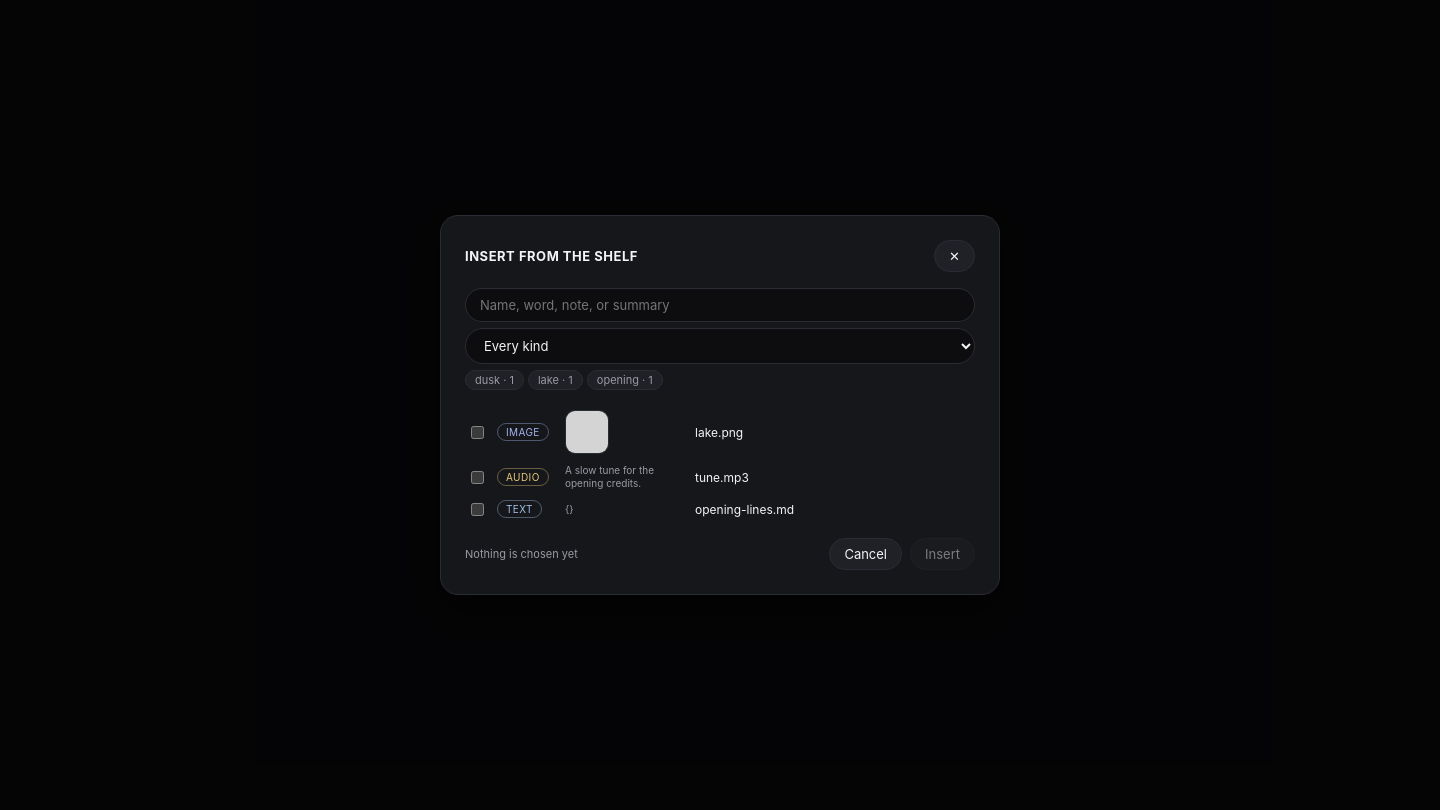
Test: the asset picker › reads a sound's row by the words it came from, whole on a hover
Hover over the text with test id "asset-pick-excerpt-tune-asset" at (610, 476), box [565, 464, 654, 489]
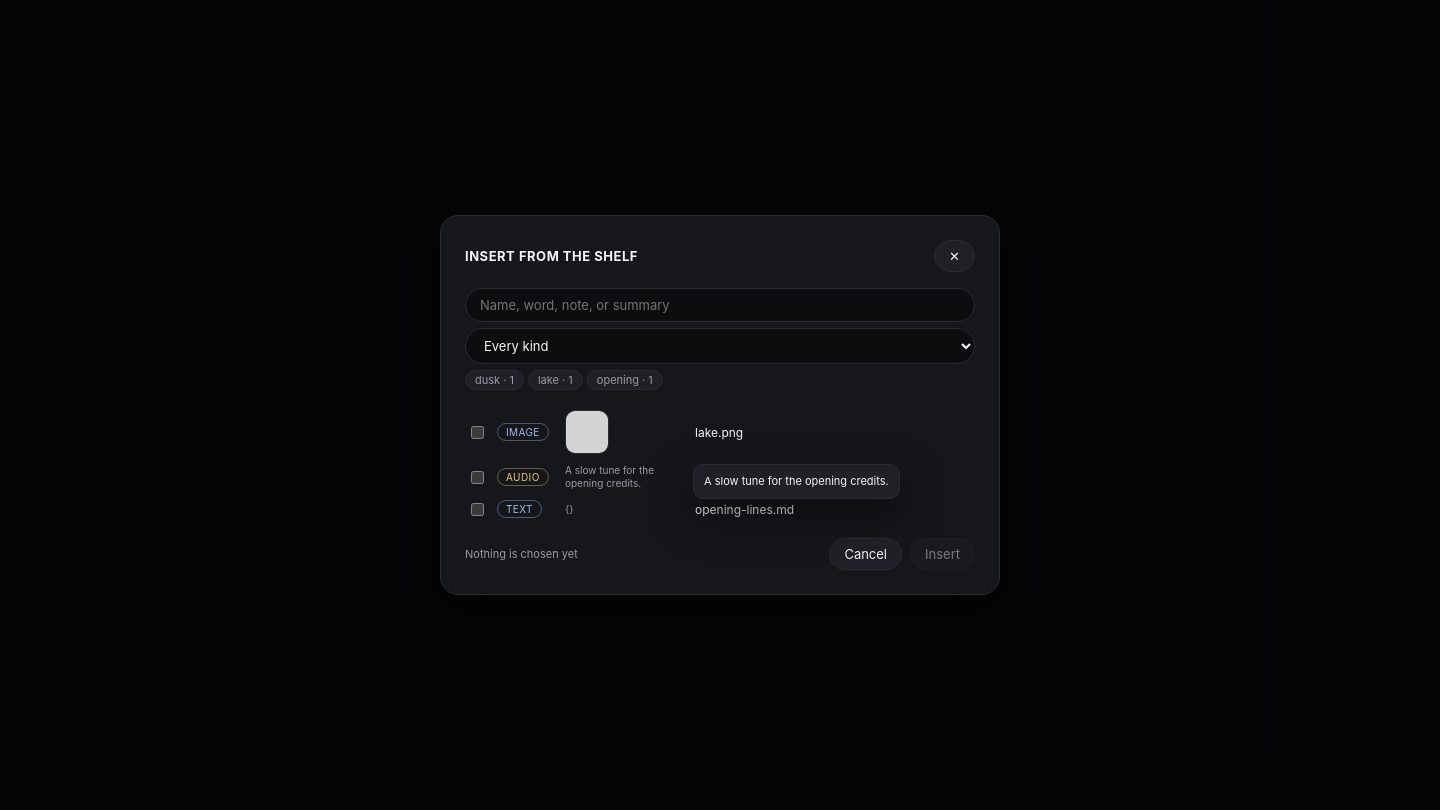
Result: the tooltip with test id "asset-pick-words" reads "A slow tune for the opening credits." at [704, 474, 889, 488]
